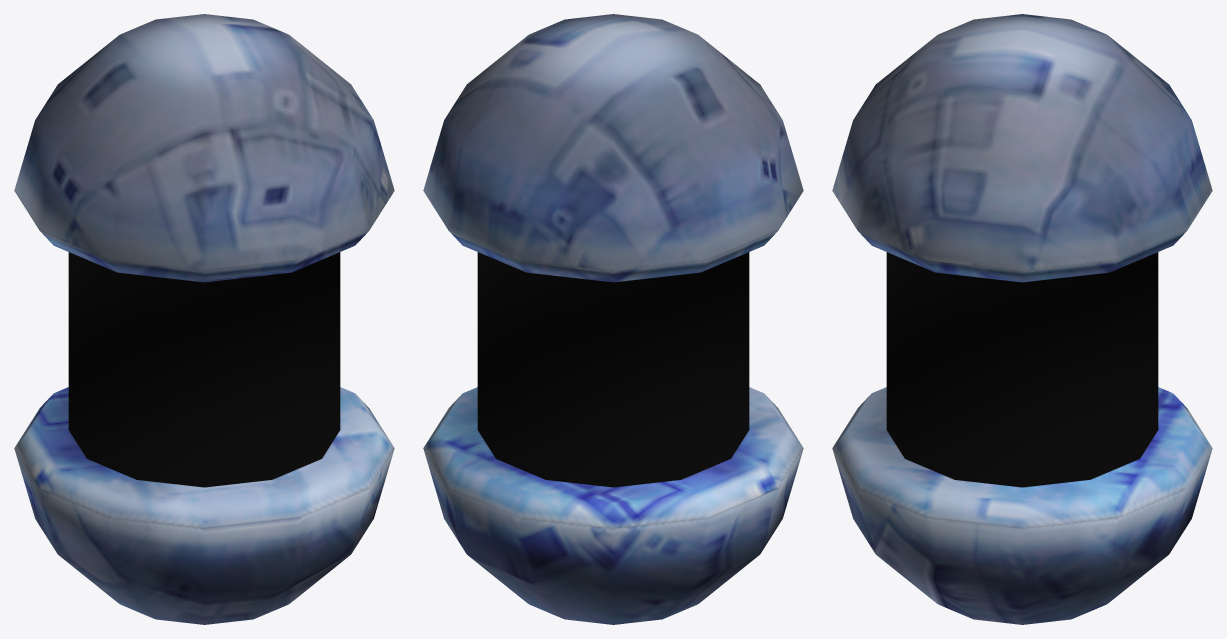
Rendered from PowereUps01.fbx.
3 renders of one model, left to right at view 1: azimuth 30°, elevation 25°; view 2: azimuth 150°, elevation 25°; view 3: azimuth 270°, elevation 25°, orthographic.
Parts seen in each view (by area): view 1: Sphere; view 2: Sphere; view 3: Sphere.
Part boxes in pixels (bbox=[...]): Sphere: bbox=[14, 14, 394, 624]; Sphere: bbox=[423, 14, 803, 624]; Sphere: bbox=[832, 14, 1212, 624].
Bounding box in the file's own units: 84.83 × 142 × 84.83.
